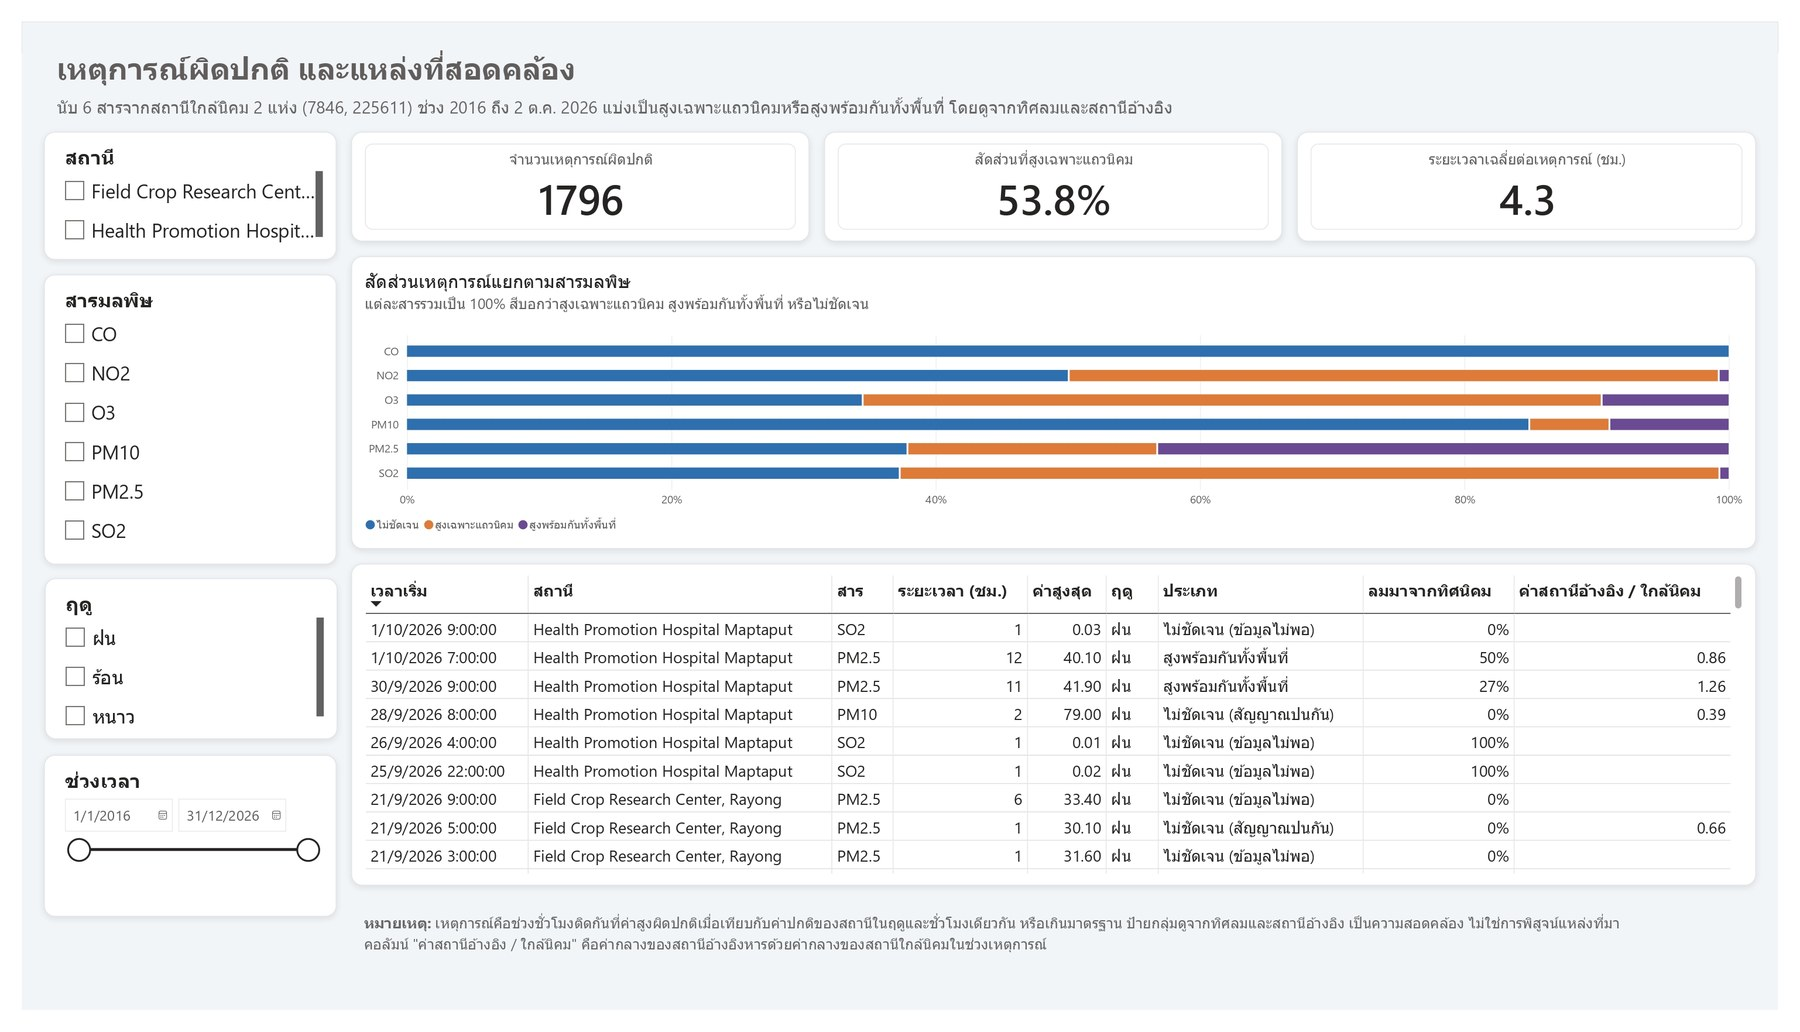

What the dashboard file says about the page in this screenshot:
{"tool":"powerbi","page":{"name":"เหตุการณ์","canvas":[1920,1080],"ordinal":1},"visuals":[{"type":"textbox","box":[24,16,1872,72],"z":1000},{"type":"textbox","box":[24,68,1872,52],"z":2000},{"type":"slicer","fields":{"Values":["episodes.station_name"]},"box":[24,120,320,140],"z":3000},{"type":"slicer","fields":{"Values":["episodes.pollutant_name"]},"box":[23.8,276.2,320,316.2],"z":4000},{"type":"slicer","fields":{"Values":["episodes.season_th"]},"box":[25,607.5,320,176.2],"z":5000},{"type":"slicer","fields":{"Values":["date.Date"]},"box":[23.8,801.2,320,176.2],"z":6000},{"type":"textbox","box":[360,960,1536,96],"z":7000},{"type":"cardVisual","fields":{"Data":["episodes.จำนวนเหตุการณ์"]},"box":[360,120,501,120],"z":8000},{"type":"cardVisual","fields":{"Data":["episodes.% สอดคล้องกับแหล่งในพื้นที่"]},"box":[877,120,501,120],"z":9000},{"type":"cardVisual","fields":{"Data":["episodes.ระยะเวลาเฉลี่ย (ชม.)"]},"box":[1394,120,502,120],"z":10000},{"type":"hundredPercentStackedBarChart","title":"สัดส่วนเหตุการณ์แยกตามสารมลพิษ","fields":{"Category":["episodes.pollutant_name"],"Series":["episodes.label_group"],"Y":["episodes.จำนวนเหตุการณ์"]},"box":[360,256,1536,320],"z":11000},{"type":"tableEx","fields":{"Values":["episodes.start_local","episodes.station_name","episodes.pollutant_name","episodes.duration_hours","episodes.peak_value","episodes.season_th","episodes.label_display","episodes.frac_wind_from_industry","episodes.ctrl_ratio"]},"box":[360,592,1536,352],"z":13000}]}

Visuals, with their boxes in screenshot pixels (x1, y1, x2, y2), scaled from the page's 1920x1080 canvas onto the 1800x1032 screenshot:
textbox: <bbox>22, 15, 1778, 84</bbox>
textbox: <bbox>22, 65, 1778, 115</bbox>
slicer - episodes.station_name: <bbox>22, 115, 322, 248</bbox>
slicer - episodes.pollutant_name: <bbox>22, 264, 322, 566</bbox>
slicer - episodes.season_th: <bbox>23, 580, 323, 749</bbox>
slicer - date.Date: <bbox>22, 766, 322, 934</bbox>
textbox: <bbox>338, 917, 1778, 1009</bbox>
cardVisual - episodes.จำนวนเหตุการณ์: <bbox>338, 115, 807, 229</bbox>
cardVisual - episodes.% สอดคล้องกับแหล่งในพื้นที่: <bbox>822, 115, 1292, 229</bbox>
cardVisual - episodes.ระยะเวลาเฉลี่ย (ชม.): <bbox>1307, 115, 1778, 229</bbox>
"สัดส่วนเหตุการณ์แยกตามสารมลพิษ" hundredPercentStackedBarChart: <bbox>338, 245, 1778, 550</bbox>
tableEx - episodes.start_local x episodes.station_name: <bbox>338, 566, 1778, 902</bbox>
